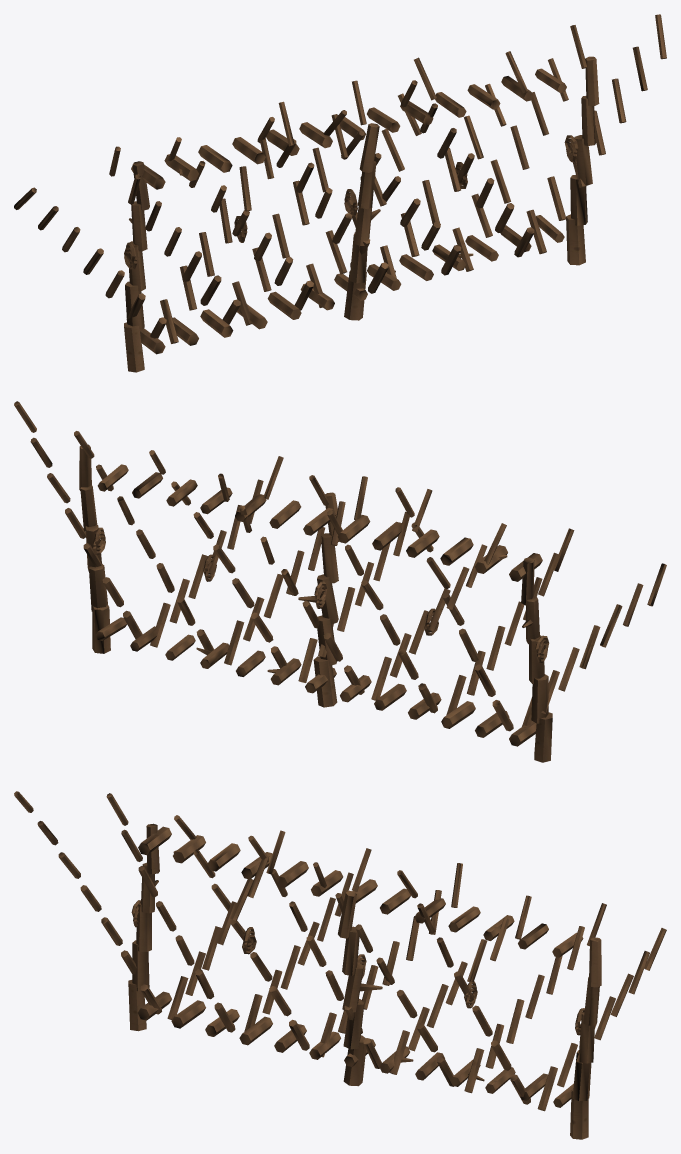
File: lattice.glb
3 views of the same model, one above another, from view 1: azimuth 30°, elevation 25°; view 2: azimuth 150°, elevation 25°; view 3: azimuth 330°, elevation 25° (orthographic).
Parts seen in each view (by area): view 1: lattice; view 2: lattice; view 3: lattice.
Part boxes in pixels (bbox=[...]): lattice: bbox=[14, 14, 666, 372]; lattice: bbox=[14, 401, 666, 762]; lattice: bbox=[14, 791, 666, 1139].
Size of the model in its own units: 5.82 by 2.03 by 0.6038.
1 material, 1 textured.
